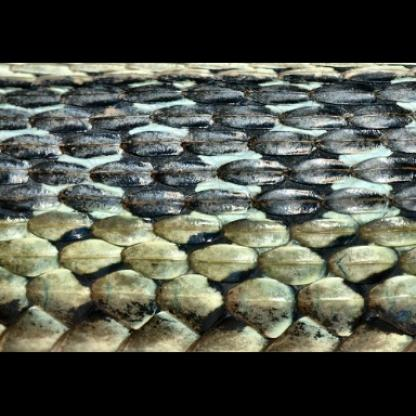Snake: (0, 68, 416, 348)
